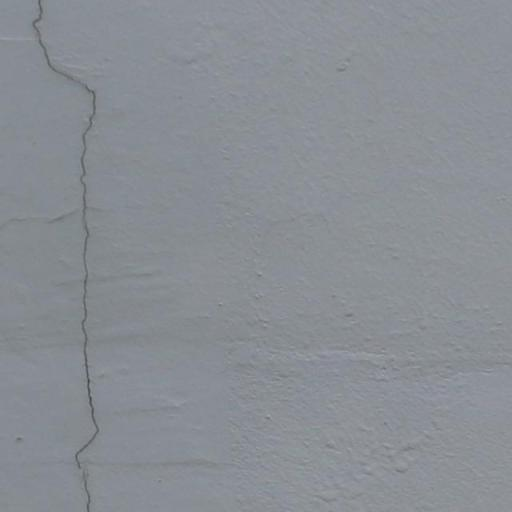severe crack: (0, 0, 114, 512)
